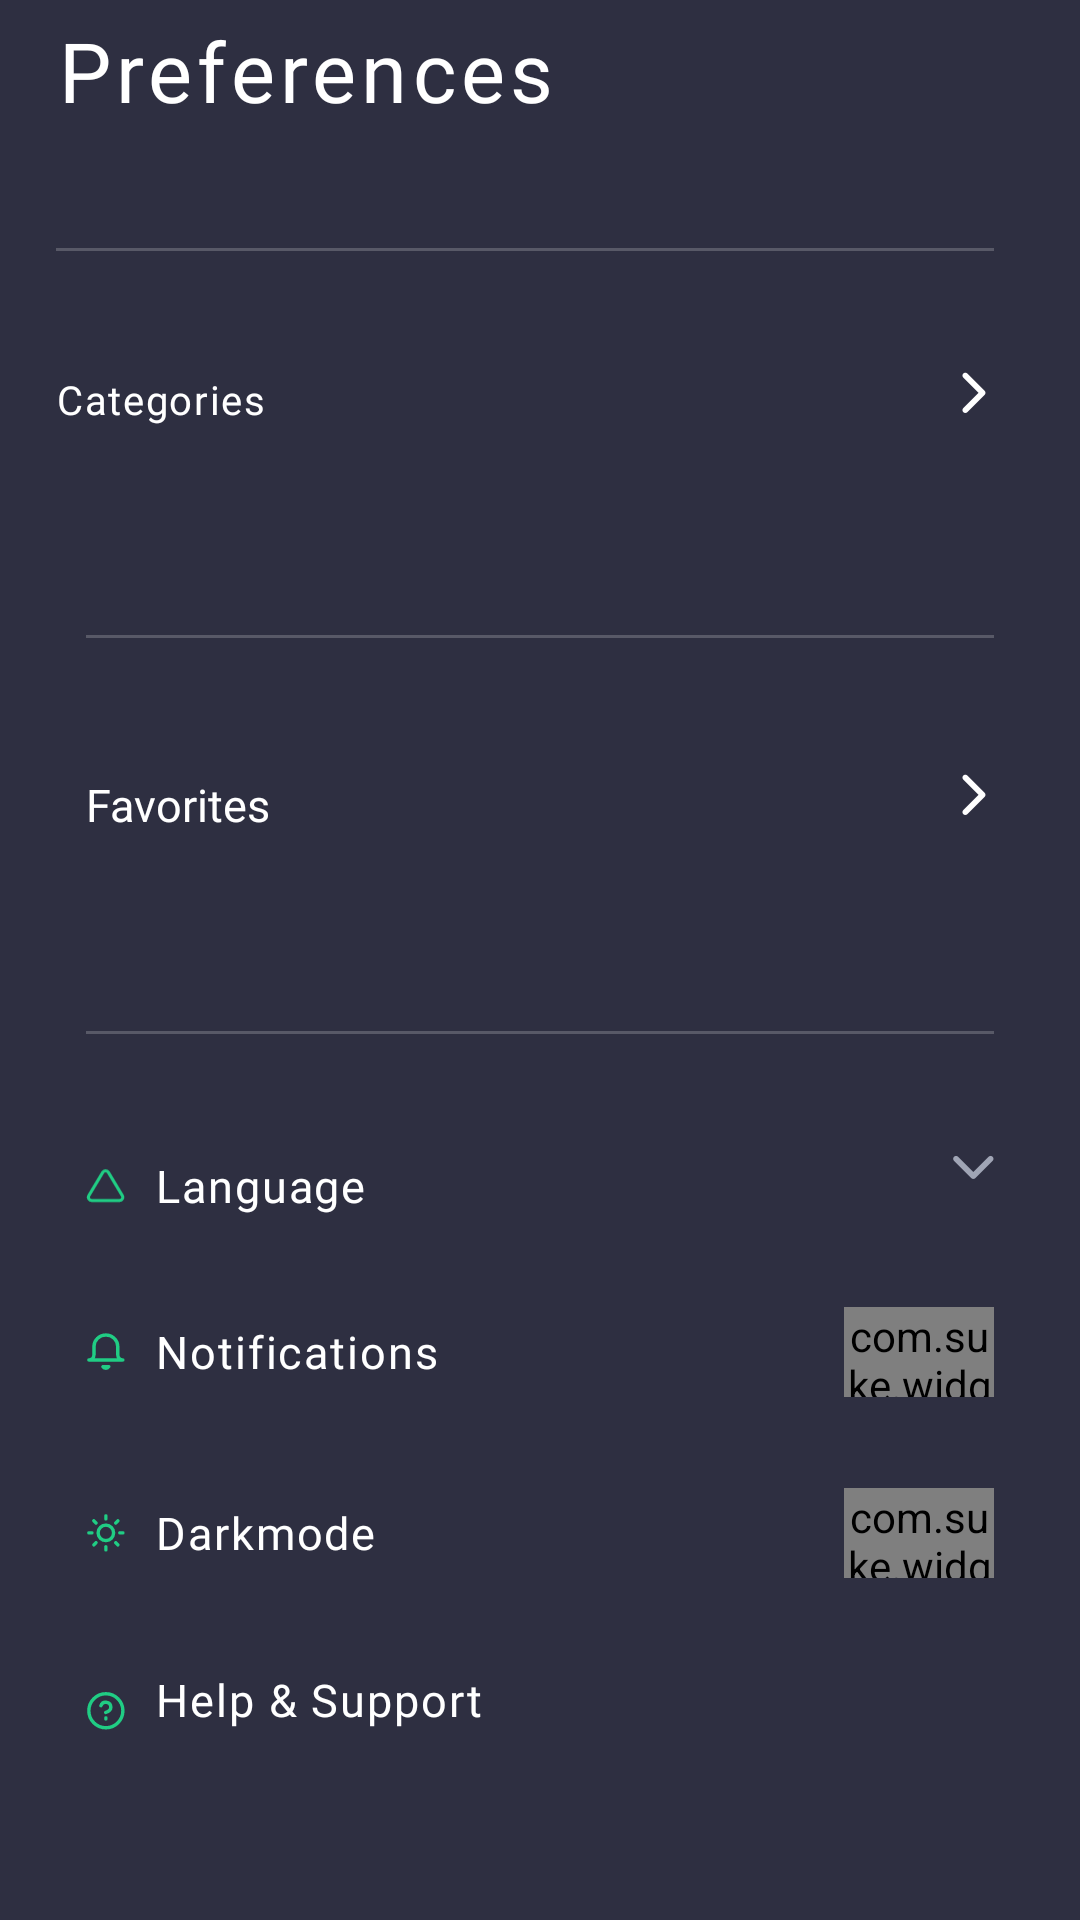

Named icons in this screenshot (1080w x 1920h) and their centers, (x=x, y=y):
bell: (x=106, y=1351)
chevron right: (x=974, y=392), (x=974, y=794)
help circle: (x=106, y=1711)
sun: (x=106, y=1533)
triangle: (x=105, y=1186)
